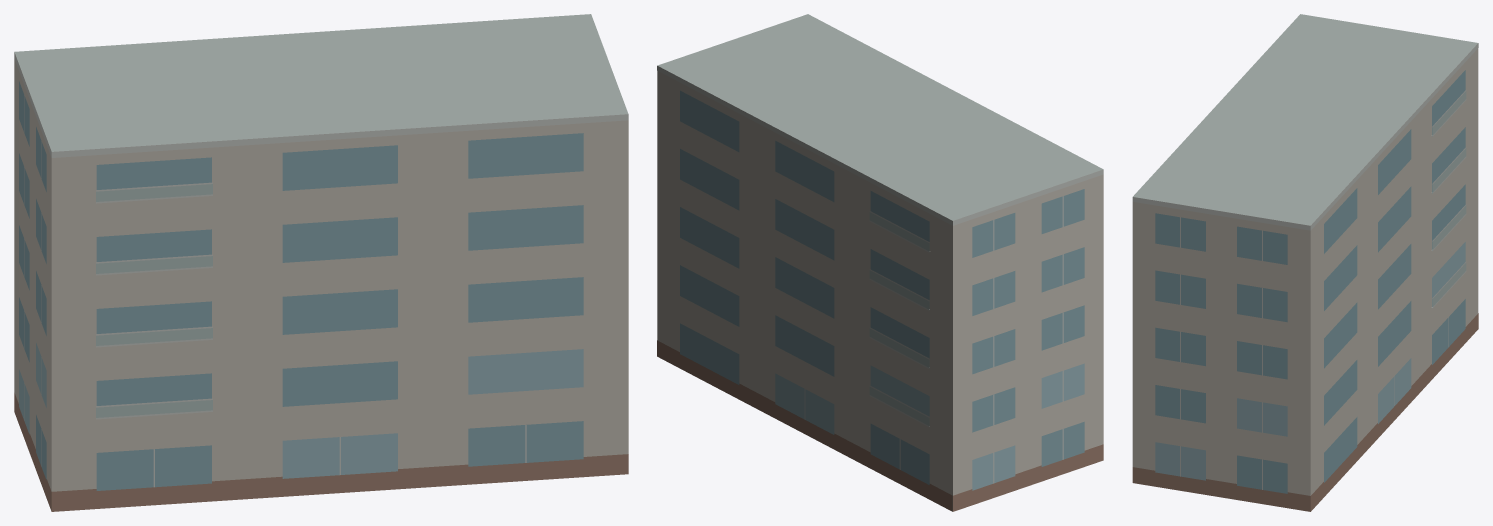
File: survey-upis-32873579.glb
3 renders of one model, left to right at view 1: azimuth 30°, elevation 25°; view 2: azimuth 150°, elevation 25°; view 3: azimuth 270°, elevation 25°, orthographic. The views are drawn at different scales.
Parts seen in each view (by area): view 1: survey-upis-32873579.tmp; view 2: survey-upis-32873579.tmp; view 3: survey-upis-32873579.tmp.
Part boxes in pixels (box(x1,y1,x2,y2)): survey-upis-32873579.tmp: box(14, 14, 628, 511); survey-upis-32873579.tmp: box(657, 14, 1103, 511); survey-upis-32873579.tmp: box(1132, 14, 1478, 511).
Bounding box in the file's own units: 22.71 × 14.3 × 15.68.
